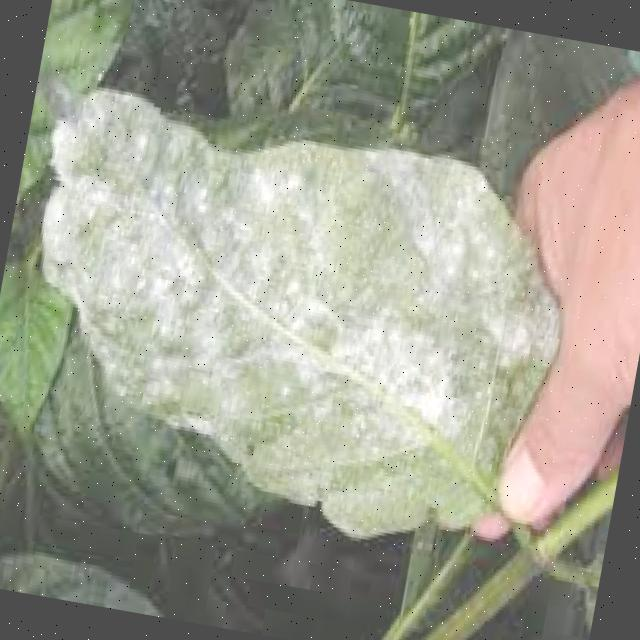whitefly: (0, 70, 575, 538)
